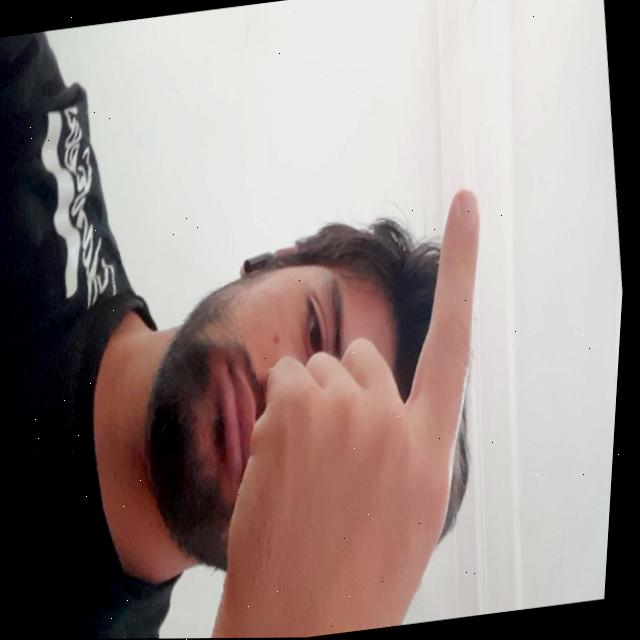Head: (122, 210, 500, 596)
One: (146, 182, 533, 639)
